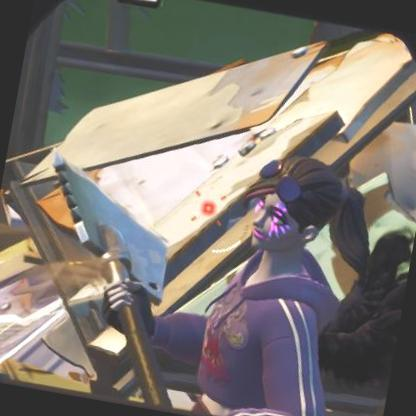person: (196, 155, 359, 416)
